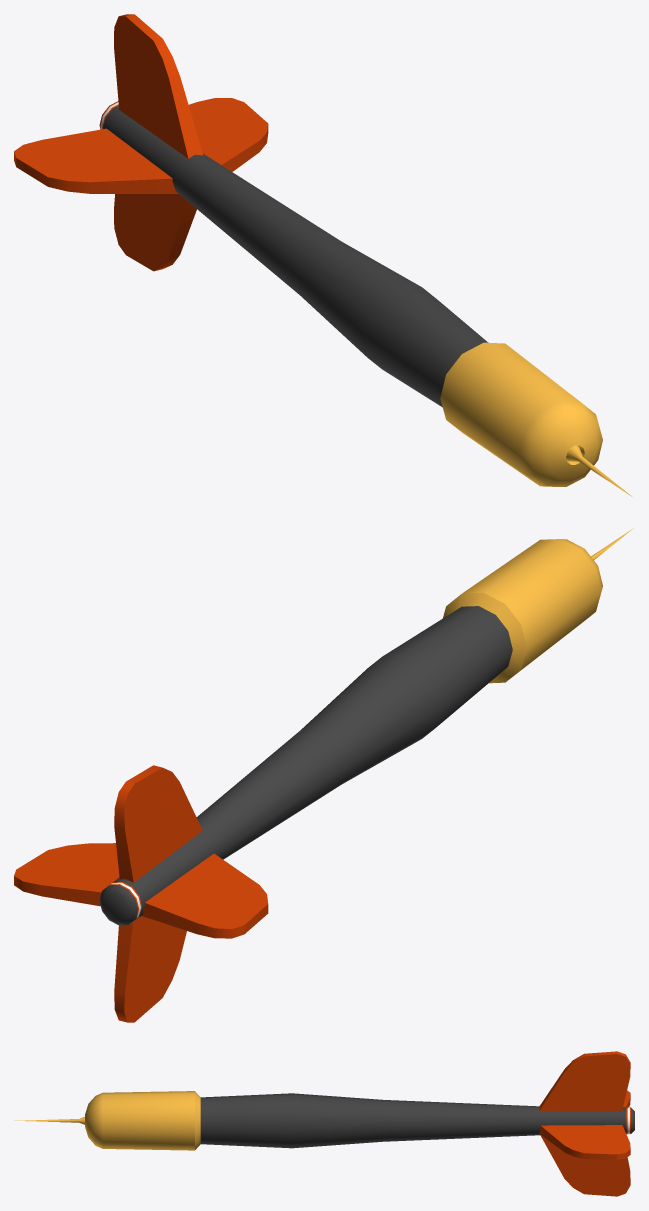
File: Arrow.fbx
The picture shows the model from 3 angles, top to bottom: view 1: azimuth 30°, elevation 25°; view 2: azimuth 150°, elevation 25°; view 3: azimuth 270°, elevation 25°; orthographic projection. The views are drawn at different scales.
Parts seen in each view (by area): view 1: Arrow; view 2: Arrow; view 3: Arrow.
Boxes of the visible parts, left/top/right/bottom form: Arrow: left=14, top=14, right=632, bottom=496; Arrow: left=14, top=528, right=633, bottom=1022; Arrow: left=14, top=1051, right=634, bottom=1196.
Bounding box in the file's own units: 0.0825 × 0.0825 × 0.3257.
